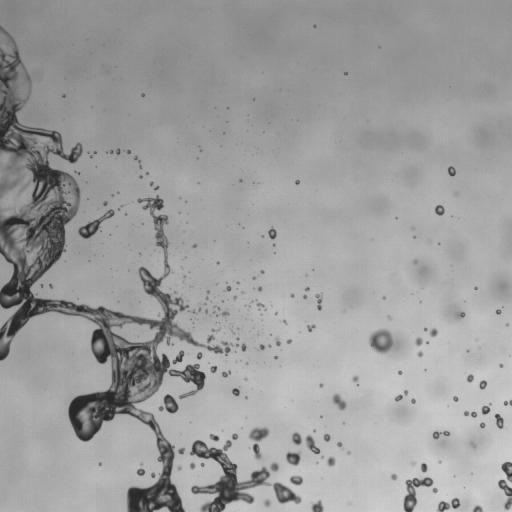droplet: (189, 440, 301, 511), (368, 328, 393, 353), (158, 394, 178, 413), (332, 393, 346, 410), (286, 452, 300, 465), (311, 500, 323, 511), (292, 432, 302, 445), (495, 413, 503, 428), (290, 475, 302, 485), (268, 227, 276, 239), (435, 205, 444, 215), (481, 404, 490, 414), (326, 456, 335, 466), (256, 301, 265, 309), (429, 328, 437, 337), (448, 166, 455, 176), (209, 434, 219, 441), (420, 462, 427, 472), (472, 505, 483, 511), (479, 380, 486, 389), (455, 312, 465, 318), (307, 324, 315, 331), (415, 337, 422, 345), (137, 467, 144, 475), (232, 388, 239, 395), (395, 394, 402, 401), (323, 434, 330, 441), (178, 447, 185, 454), (390, 473, 397, 480), (222, 371, 230, 377), (352, 375, 358, 383), (467, 374, 473, 382), (275, 337, 280, 346), (210, 366, 217, 372), (504, 399, 511, 405), (189, 462, 195, 469), (264, 499, 270, 506), (220, 311, 228, 316), (225, 285, 231, 291), (417, 351, 423, 357), (231, 433, 237, 439), (197, 352, 202, 359), (259, 344, 265, 349), (480, 422, 485, 428), (337, 442, 342, 448), (115, 149, 120, 154), (496, 309, 501, 314), (453, 396, 458, 401), (149, 181, 153, 186), (413, 259, 417, 264), (258, 286, 262, 291), (215, 306, 220, 310), (411, 398, 415, 403), (432, 488, 437, 492), (295, 180, 299, 184), (103, 201, 107, 205), (305, 287, 309, 291), (290, 293, 294, 297), (303, 295, 307, 299), (387, 315, 391, 319), (287, 339, 291, 343), (319, 383, 323, 387), (403, 390, 407, 394), (471, 443, 475, 447), (177, 466, 181, 470), (151, 473, 155, 477), (155, 186, 158, 190), (233, 295, 236, 299), (283, 320, 286, 324), (398, 370, 401, 374), (62, 94, 65, 97), (110, 150, 113, 153), (127, 150, 130, 153), (193, 244, 196, 247), (206, 290, 209, 293), (205, 296, 208, 299), (499, 364, 502, 367), (201, 463, 204, 466), (412, 462, 415, 465), (313, 25, 316, 27), (141, 94, 144, 96), (139, 175, 141, 178), (239, 179, 242, 181), (261, 270, 263, 273), (253, 276, 255, 279), (49, 285, 52, 287), (275, 356, 277, 359), (244, 378, 247, 380), (146, 172, 148, 174), (205, 310, 207, 312), (158, 313, 160, 315), (275, 312, 277, 314), (424, 328, 426, 330), (439, 461, 441, 463), (99, 463, 101, 465)
ligament: (0, 26, 246, 511), (78, 209, 114, 238), (403, 477, 433, 511), (248, 427, 269, 460), (498, 462, 511, 510), (436, 498, 460, 511), (304, 435, 319, 454), (432, 430, 450, 439), (315, 293, 322, 310), (134, 156, 141, 167), (464, 411, 476, 417), (190, 307, 201, 313), (212, 328, 220, 332)
